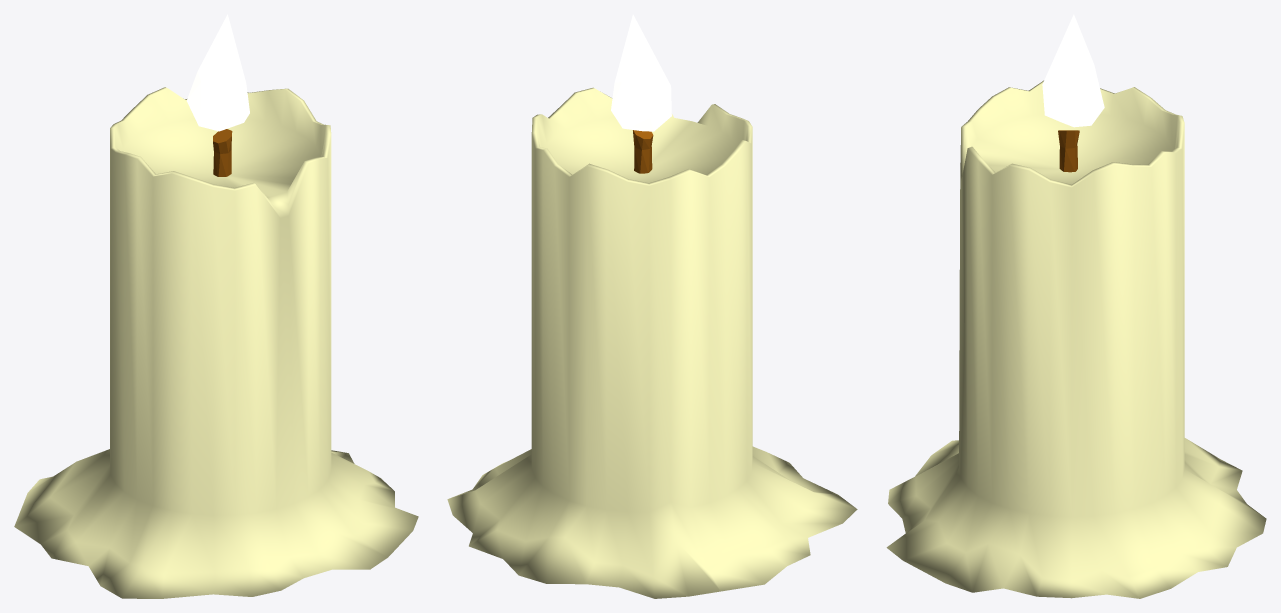
Rendered from velas_3.gltf.
3 views of the same model, side by side, from view 1: azimuth 30°, elevation 25°; view 2: azimuth 150°, elevation 25°; view 3: azimuth 270°, elevation 25° (orthographic).
Visible parts, largest first — view 1: Cylinder.008, Cylinder.010, Cylinder.009; view 2: Cylinder.008, Cylinder.010, Cylinder.009; view 3: Cylinder.008, Cylinder.010, Cylinder.009.
Part boxes in pixels (<box>): Cylinder.008: <box>14,87,418,598</box>; Cylinder.010: <box>186,14,249,131</box>; Cylinder.009: <box>213,129,232,176</box>; Cylinder.008: <box>447,87,857,598</box>; Cylinder.010: <box>611,14,671,131</box>; Cylinder.009: <box>633,130,653,173</box>; Cylinder.008: <box>886,80,1266,598</box>; Cylinder.010: <box>1042,14,1104,127</box>; Cylinder.009: <box>1058,130,1079,172</box>.
Bounding box in the file's own units: 1.53 × 2.21 × 1.5.
